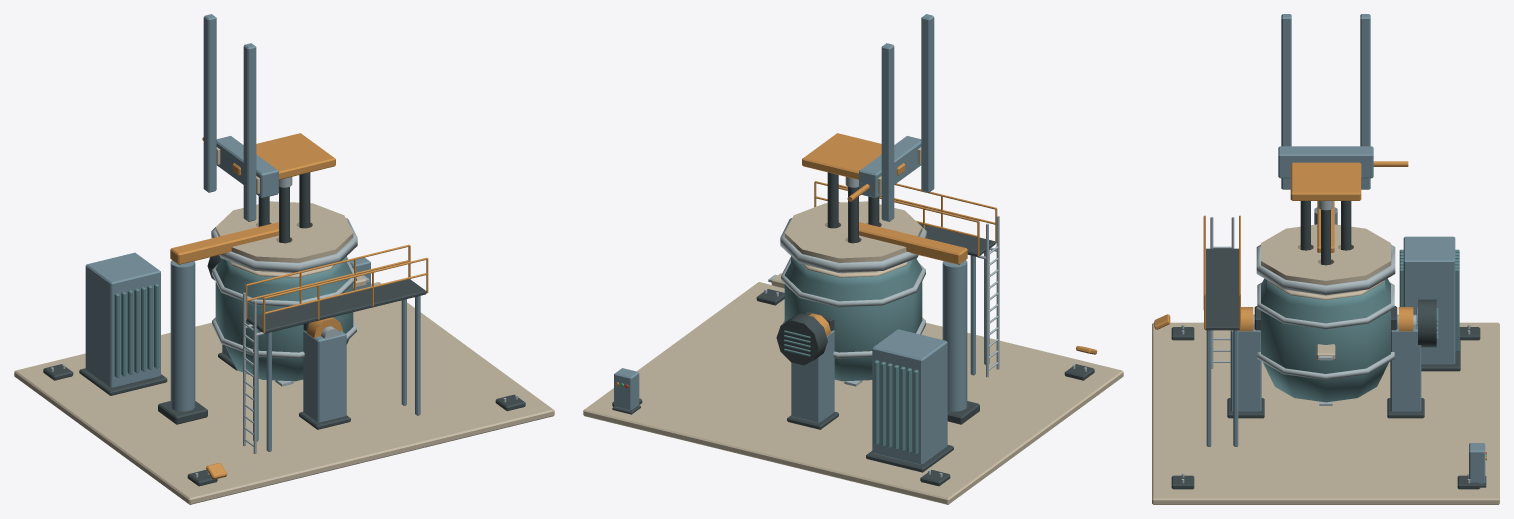
File: STS-HR-02-lod2.glb
The picture shows the model from 3 angles, left to right: view 1: azimuth 30°, elevation 25°; view 2: azimuth 150°, elevation 25°; view 3: azimuth 270°, elevation 25°; orthographic projection.
Parts seen in each view (by area): view 1: foundation, refractory_vessel, transformer_cabinet, roof_shell, roof_pivot_column, far_pedestal, eaf_service_deck, roof_electrode_guide_-0.95, roof_electrode_guide_0.95, electrode_carrier, roof_swing_arm, electrode_slide_carriage (+11 smaller); view 2: foundation, refractory_vessel, transformer_cabinet, roof_shell, roof_pivot_column, near_pedestal, roof_electrode_guide_0.95, roof_electrode_guide_-0.95, electrode_carrier, roof_swing_arm, tilt_gearbox, roof_water_jacket (+7 smaller); view 3: foundation, refractory_vessel, roof_shell, transformer_cabinet, electrode_carrier, eaf_service_deck, near_pedestal, far_pedestal, electrode_slide_carriage, roof_water_jacket, roof_electrode_guide_-0.95, roof_electrode_guide_0.95 (+12 smaller).
Part boxes in pixels (left/top/right/bottom): foundation: left=14, top=282, right=554, bottom=504; refractory_vessel: left=215, top=256, right=353, bottom=381; transformer_cabinet: left=85, top=252, right=160, bottom=388; roof_shell: left=215, top=201, right=353, bottom=262; roof_pivot_column: left=170, top=260, right=195, bottom=411; far_pedestal: left=303, top=330, right=346, bottom=423; eaf_service_deck: left=247, top=279, right=426, bottom=333; roof_electrode_guide_-0.95: left=203, top=14, right=216, bottom=192; roof_electrode_guide_0.95: left=243, top=43, right=256, bottom=221; electrode_carrier: left=256, top=133, right=335, bottom=179; roof_swing_arm: left=170, top=222, right=278, bottom=264; electrode_slide_carriage: left=216, top=136, right=278, bottom=198; foundation: left=583, top=282, right=1123, bottom=504; refractory_vessel: left=784, top=256, right=922, bottom=381; transformer_cabinet: left=872, top=329, right=947, bottom=464; roof_shell: left=784, top=201, right=922, bottom=262; roof_pivot_column: left=942, top=260, right=967, bottom=411; near_pedestal: left=791, top=330, right=834, bottom=423; roof_electrode_guide_0.95: left=921, top=14, right=934, bottom=192; roof_electrode_guide_-0.95: left=881, top=43, right=894, bottom=221; electrode_carrier: left=802, top=133, right=881, bottom=179; roof_swing_arm: left=859, top=222, right=967, bottom=264; tilt_gearbox: left=776, top=313, right=827, bottom=365; roof_water_jacket: left=780, top=218, right=926, bottom=272; foundation: left=1152, top=322, right=1499, bottom=504; refractory_vessel: left=1261, top=278, right=1390, bottom=402; roof_shell: left=1261, top=224, right=1390, bottom=285; transformer_cabinet: left=1403, top=236, right=1455, bottom=364; electrode_carrier: left=1290, top=162, right=1361, bottom=200; eaf_service_deck: left=1205, top=248, right=1239, bottom=330; near_pedestal: left=1390, top=327, right=1421, bottom=412; far_pedestal: left=1230, top=327, right=1261, bottom=412; electrode_slide_carriage: left=1278, top=146, right=1373, bottom=178; roof_water_jacket: left=1256, top=244, right=1395, bottom=295; roof_electrode_guide_-0.95: left=1360, top=14, right=1370, bottom=189; roof_electrode_guide_0.95: left=1281, top=14, right=1291, bottom=189.
Bounding box in the file's own units: 10.1 × 10.02 × 8.4.
